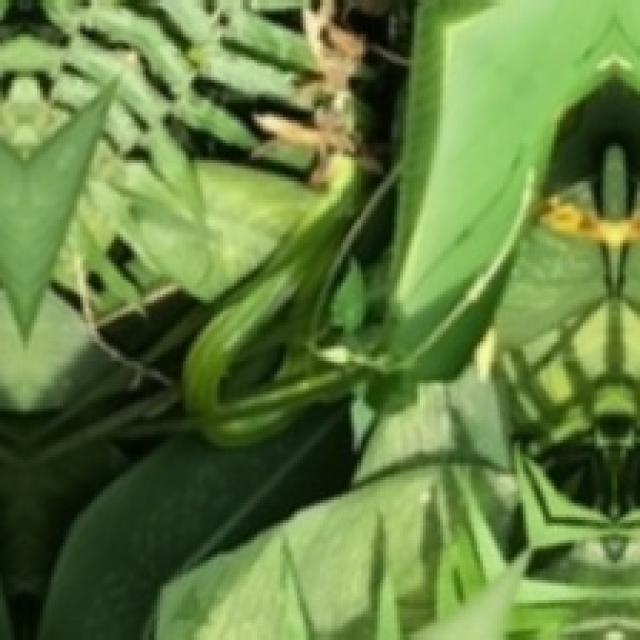red-tailed green ratsnake: (185, 156, 359, 446)
